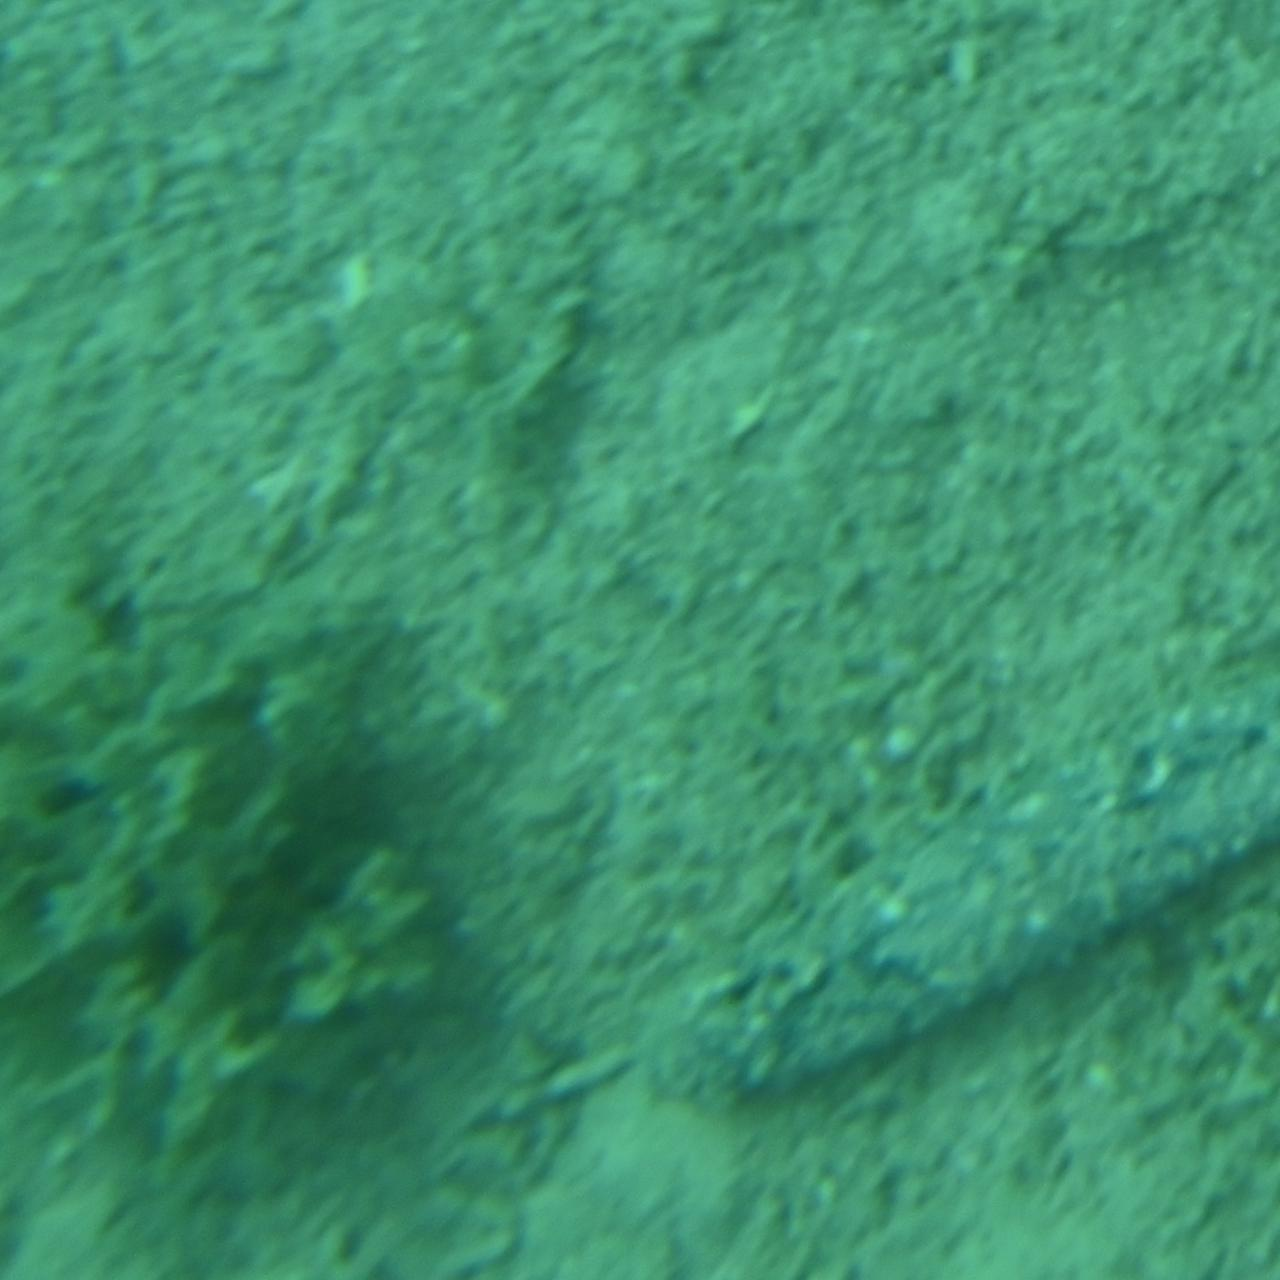Holothuria tubulosa: (665, 658, 1280, 1135)
Phaeophyceae -cfr Cystoseira-: (0, 535, 414, 1194)
